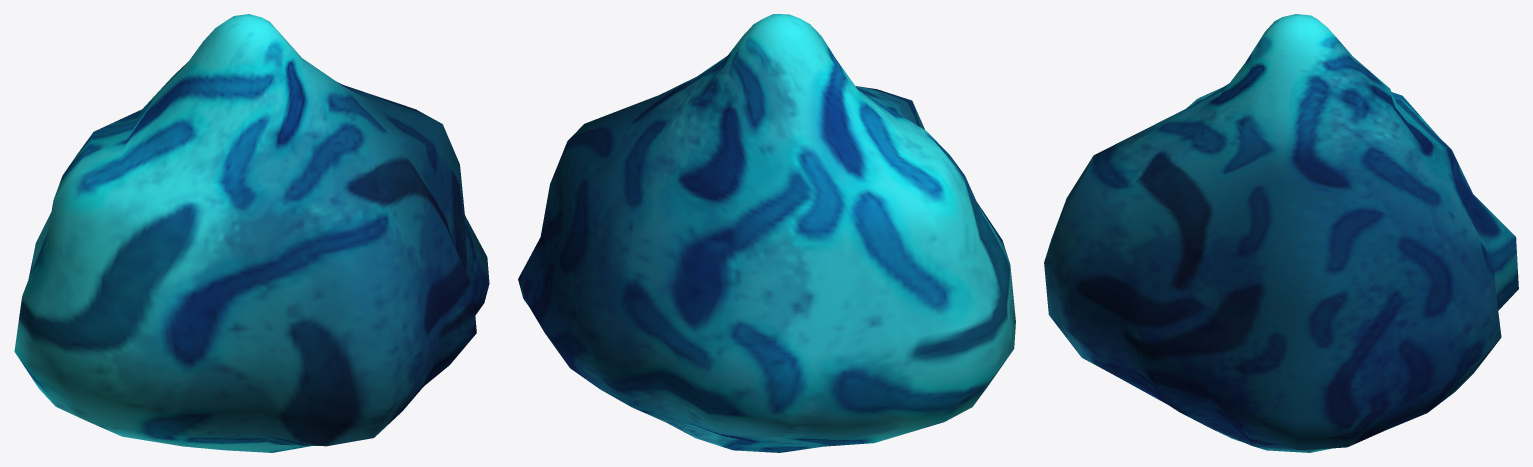
The model's file is Cartoon Seaweed_13-1-28.fbx.
3 renders of one model, left to right at view 1: azimuth 30°, elevation 25°; view 2: azimuth 150°, elevation 25°; view 3: azimuth 270°, elevation 25°, orthographic. The views are drawn at different scales.
Visible parts, largest first — view 1: Cartoon Seaweed_13.1.28; view 2: Cartoon Seaweed_13.1.28; view 3: Cartoon Seaweed_13.1.28.
Boxes of the visible parts, x1,y1,x2,y2 form: Cartoon Seaweed_13.1.28: (14,14,489,452); Cartoon Seaweed_13.1.28: (518,14,1015,452); Cartoon Seaweed_13.1.28: (1044,14,1518,452).
Size of the model in its own units: 40.9 by 36.13 by 37.84.
1 material, 1 textured.
